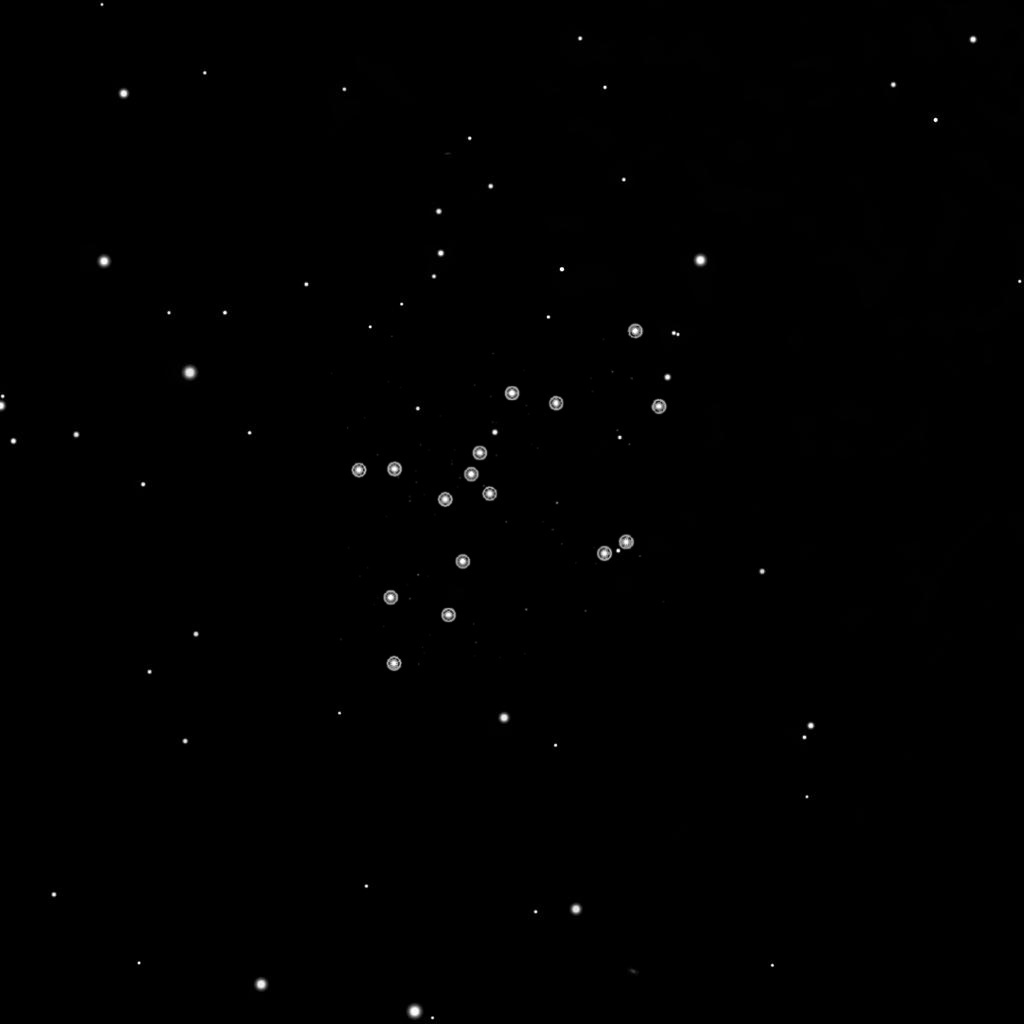canis_major: (434, 381, 573, 514)
